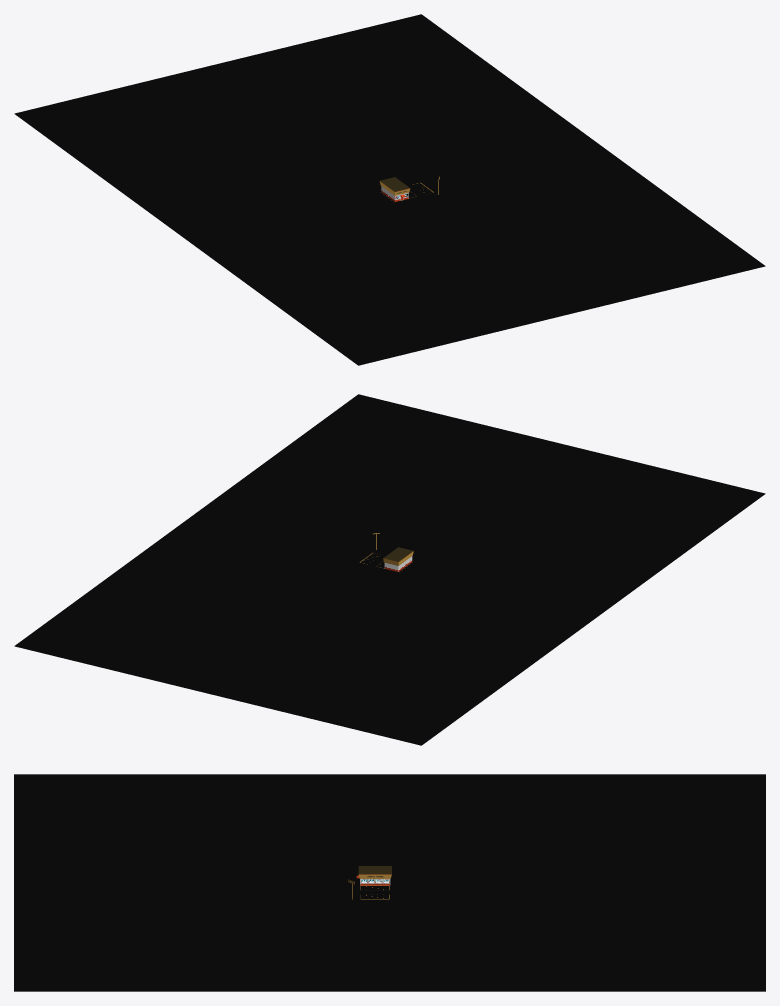
Rendered from WaffleHouseExt.glb.
The picture shows the model from 3 angles, top to bottom: view 1: azimuth 30°, elevation 25°; view 2: azimuth 150°, elevation 25°; view 3: azimuth 270°, elevation 25°; orthographic projection. The views are drawn at different scales.
Parts seen in each view (by area): view 1: awful house scene 1; view 2: awful house scene 1; view 3: awful house scene 1.
Boxes of the visible parts, x1,y1,x2,y2 form: awful house scene 1: (14, 14, 765, 365); awful house scene 1: (14, 394, 765, 745); awful house scene 1: (14, 774, 765, 991).
Size of the model in its own units: 1071 by 44.76 by 1567.
Materials: 5 (5 with a texture image).
